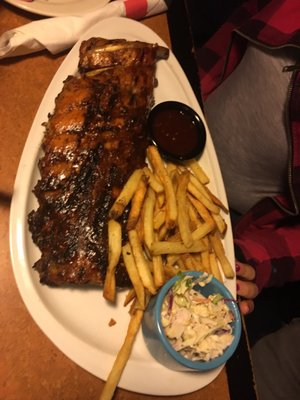sushi: (146, 271, 240, 373)
